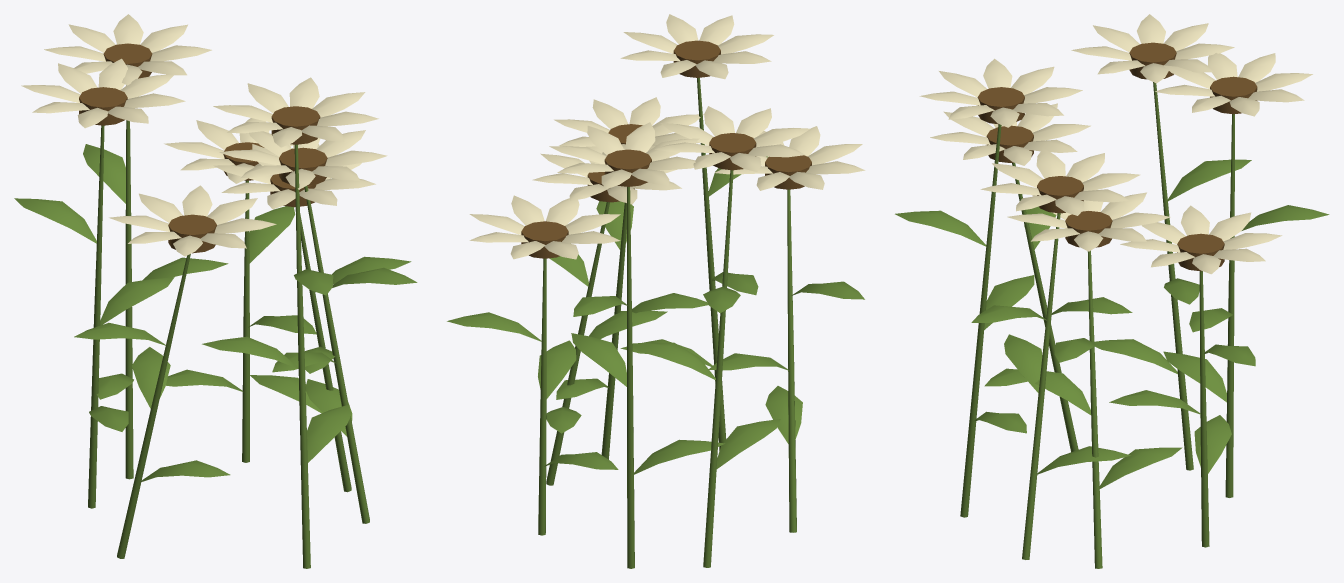
The model's file is flower-ivory-055.glb.
The picture shows the model from 3 angles, left to right: view 1: azimuth 30°, elevation 25°; view 2: azimuth 150°, elevation 25°; view 3: azimuth 270°, elevation 25°; orthographic projection. The views are drawn at different scales.
Parts seen in each view (by area): view 1: flower-ivory-055 / N06 / olive leaf mid, flower-ivory-055 / N15 / ivory flower petals, flower-ivory-055 / N16 / dark pollen; view 2: flower-ivory-055 / N06 / olive leaf mid, flower-ivory-055 / N15 / ivory flower petals, flower-ivory-055 / N16 / dark pollen; view 3: flower-ivory-055 / N06 / olive leaf mid, flower-ivory-055 / N15 / ivory flower petals, flower-ivory-055 / N16 / dark pollen.
Part boxes in pixels (x1,y1,x2,y2): flower-ivory-055 / N06 / olive leaf mid: (14, 85, 417, 568); flower-ivory-055 / N15 / ivory flower petals: (21, 14, 387, 256); flower-ivory-055 / N16 / dark pollen: (79, 43, 327, 253); flower-ivory-055 / N06 / olive leaf mid: (447, 77, 864, 568); flower-ivory-055 / N15 / ivory flower petals: (469, 14, 865, 259); flower-ivory-055 / N16 / dark pollen: (521, 40, 811, 258); flower-ivory-055 / N06 / olive leaf mid: (895, 82, 1329, 568); flower-ivory-055 / N15 / ivory flower petals: (919, 14, 1312, 274); flower-ivory-055 / N16 / dark pollen: (977, 42, 1257, 271).
Size of the model in its own units: 0.4566 by 0.561 by 0.5165.
